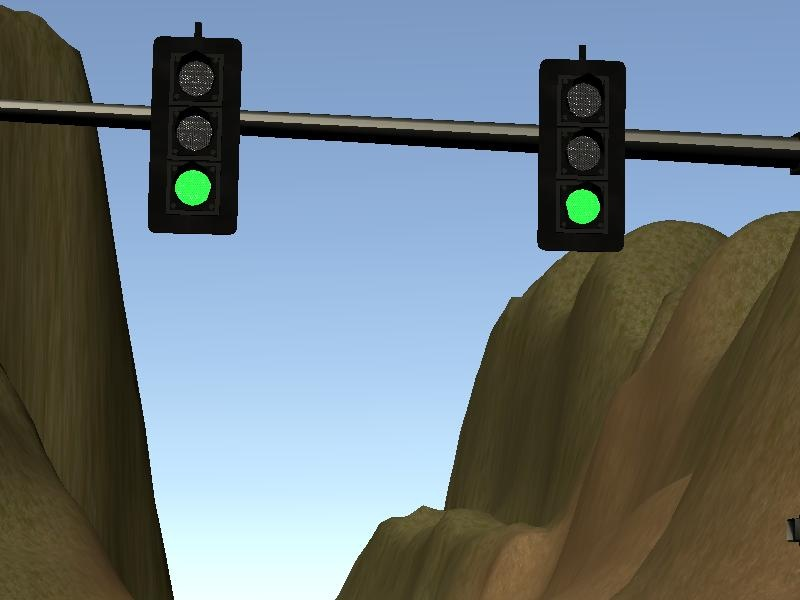green: (151, 38, 239, 234), (537, 58, 625, 251)
